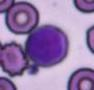L: (25, 24, 69, 66)
